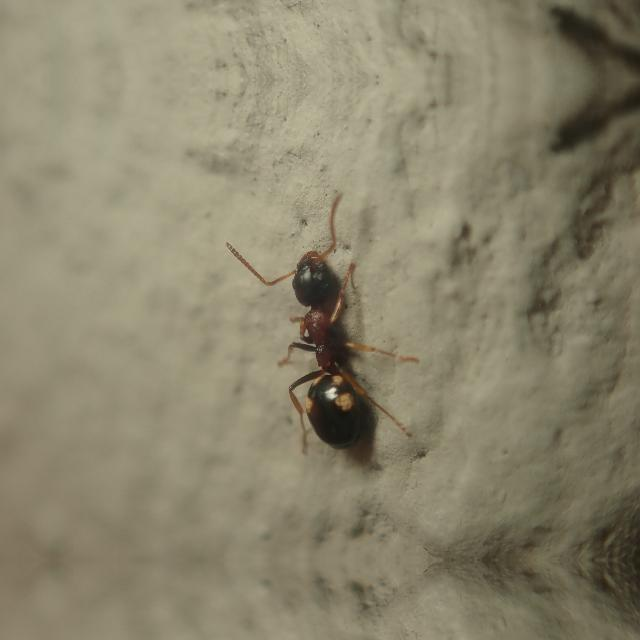Dolichoderus: (236, 198, 417, 464)
